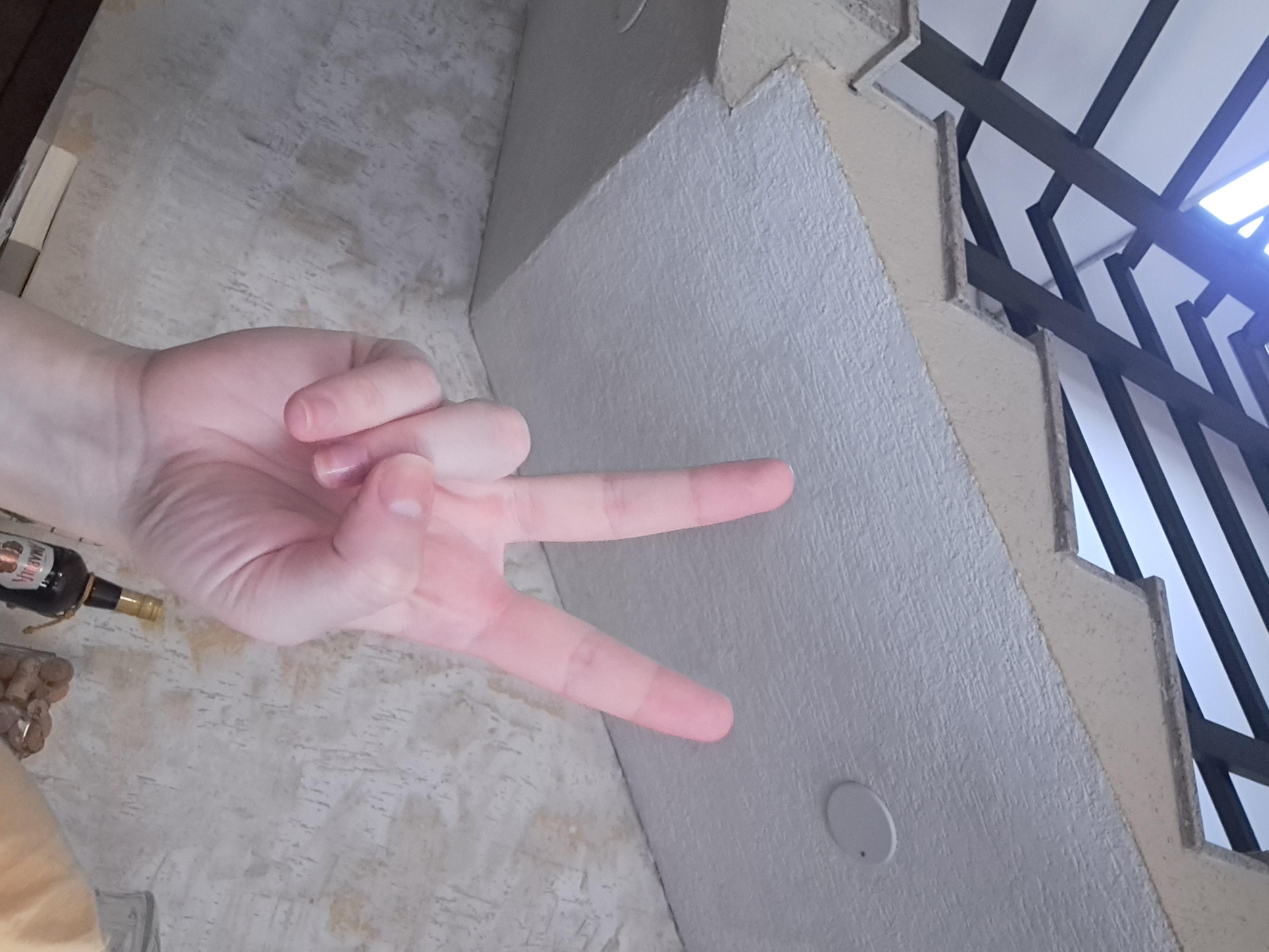V: (404, 347, 1016, 895)
